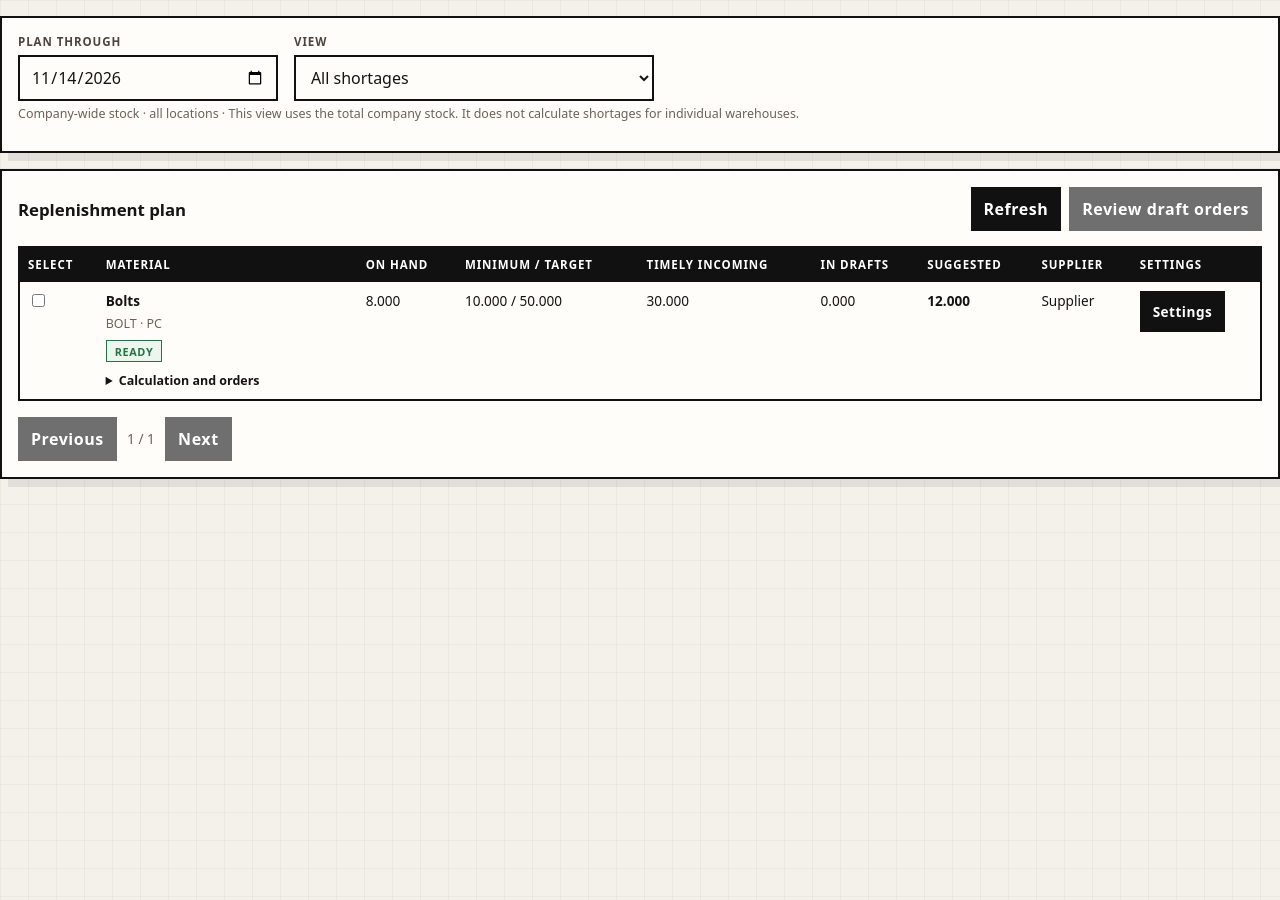
Test: replenishment screen › retains safe price and quantity edits when refreshed after conflict
Check: the text "Bolts" is shown, box [106,291,140,310]
Click the checkbox named "Select BOLT".
click(38, 301)  # box [32,294,45,307]
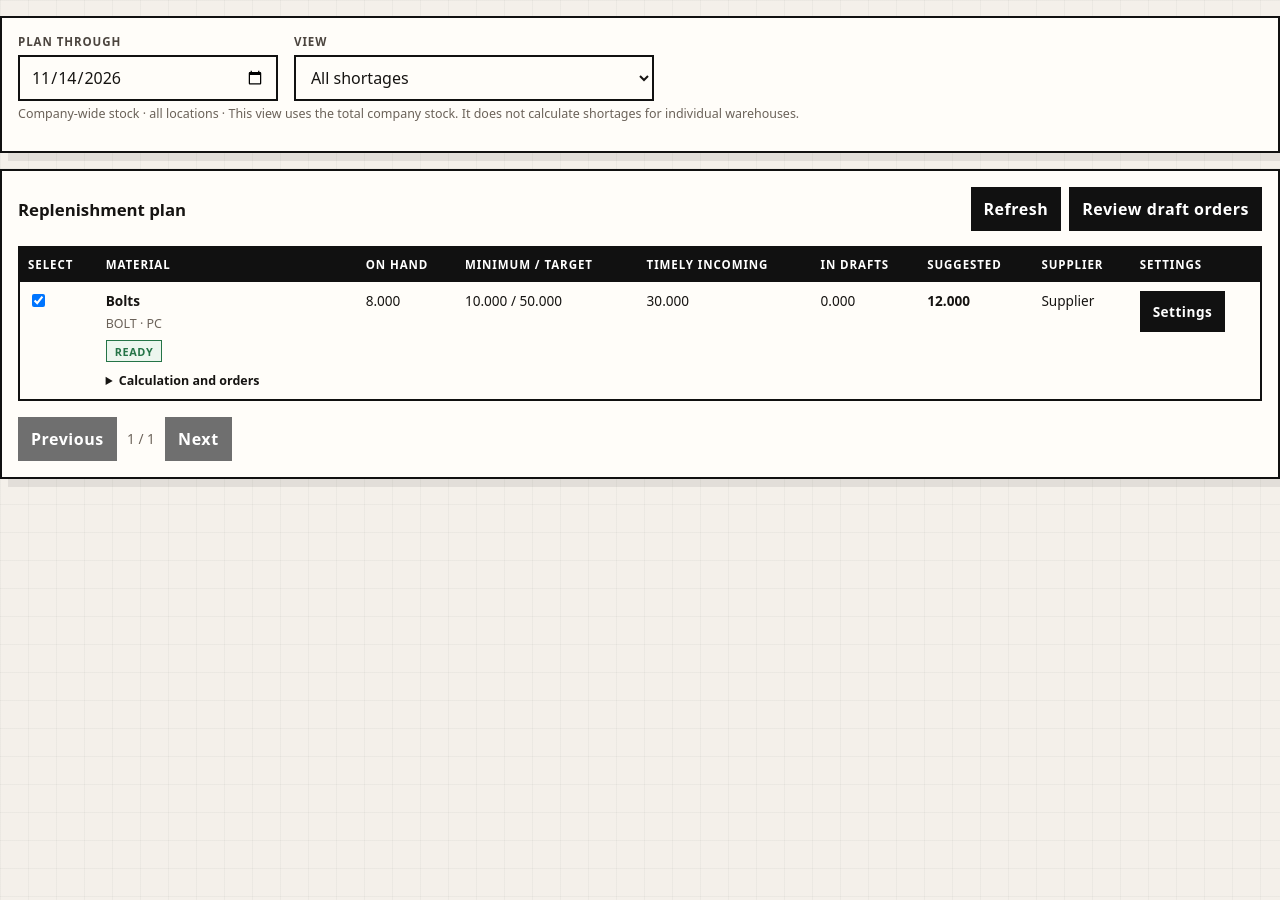
Click the button "Review draft orders".
click(1166, 209)  # box [1069,187,1262,231]
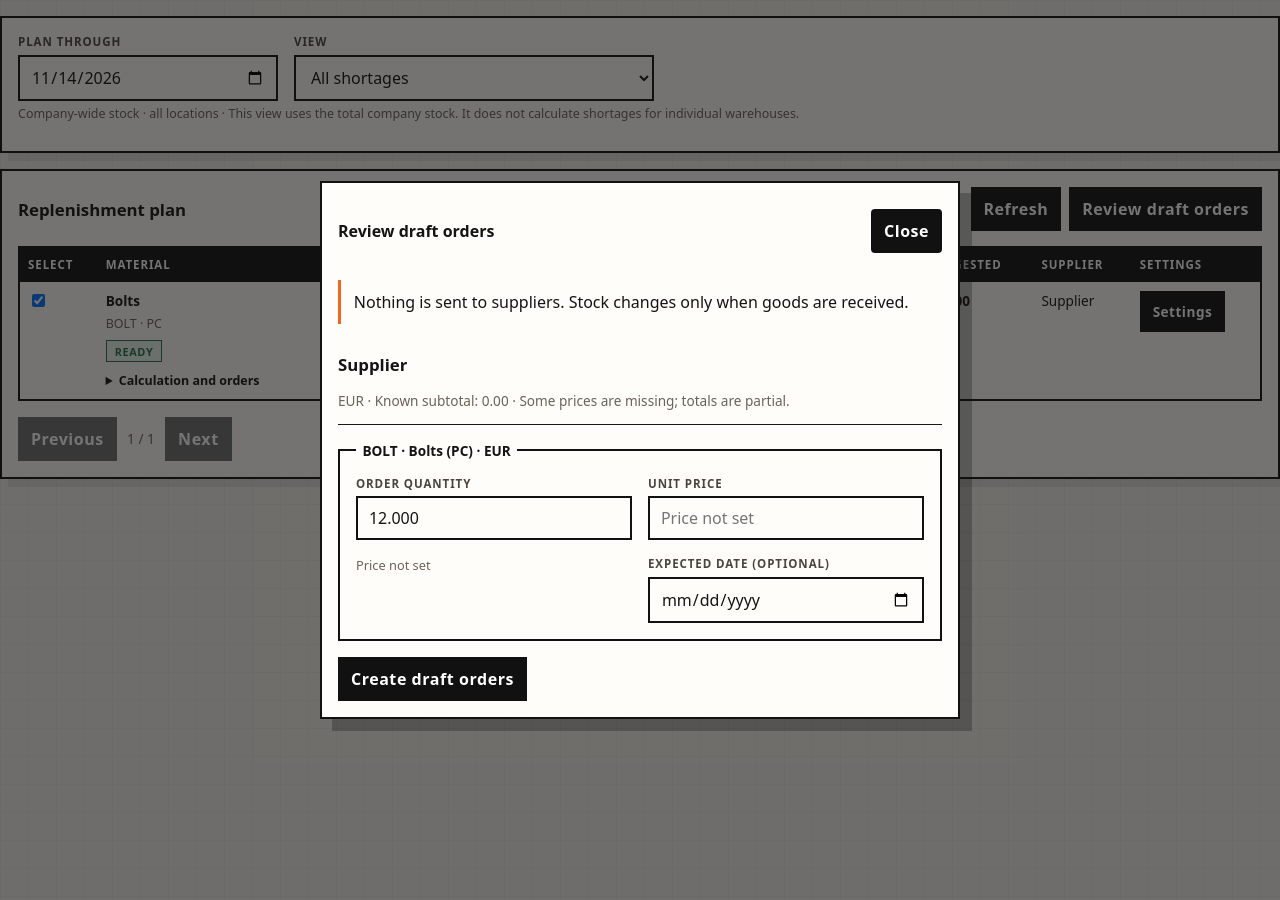
Replace the text in the number field named "Order quantity BOLT" with "5" at coordinates (494, 518), box [356,496,632,540]
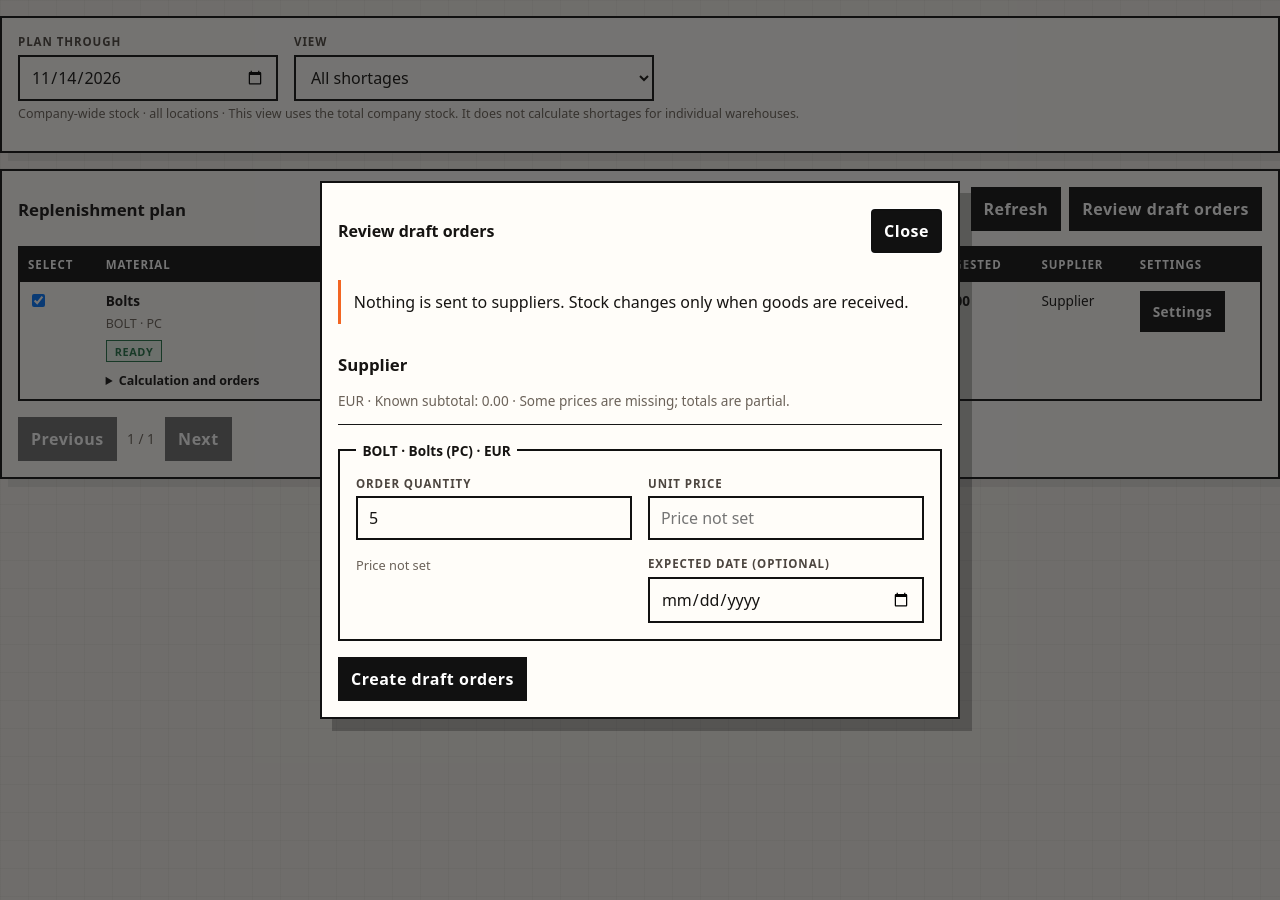
Type "2.50" into the number field named "Unit price BOLT".
click(786, 518); type("2.50")  # box [648,496,924,540]
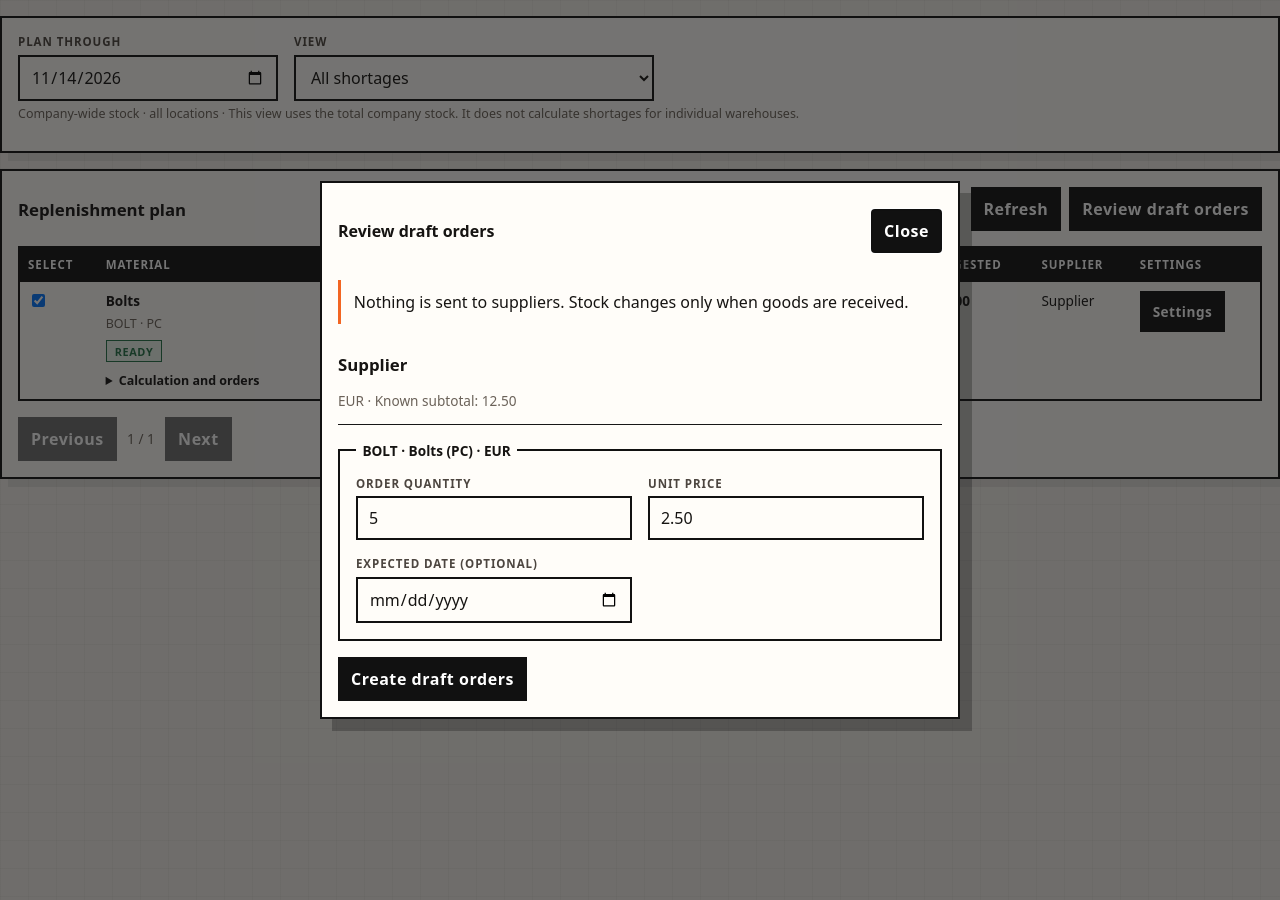
Click the button "Create draft orders".
click(432, 679)  # box [338,657,527,701]
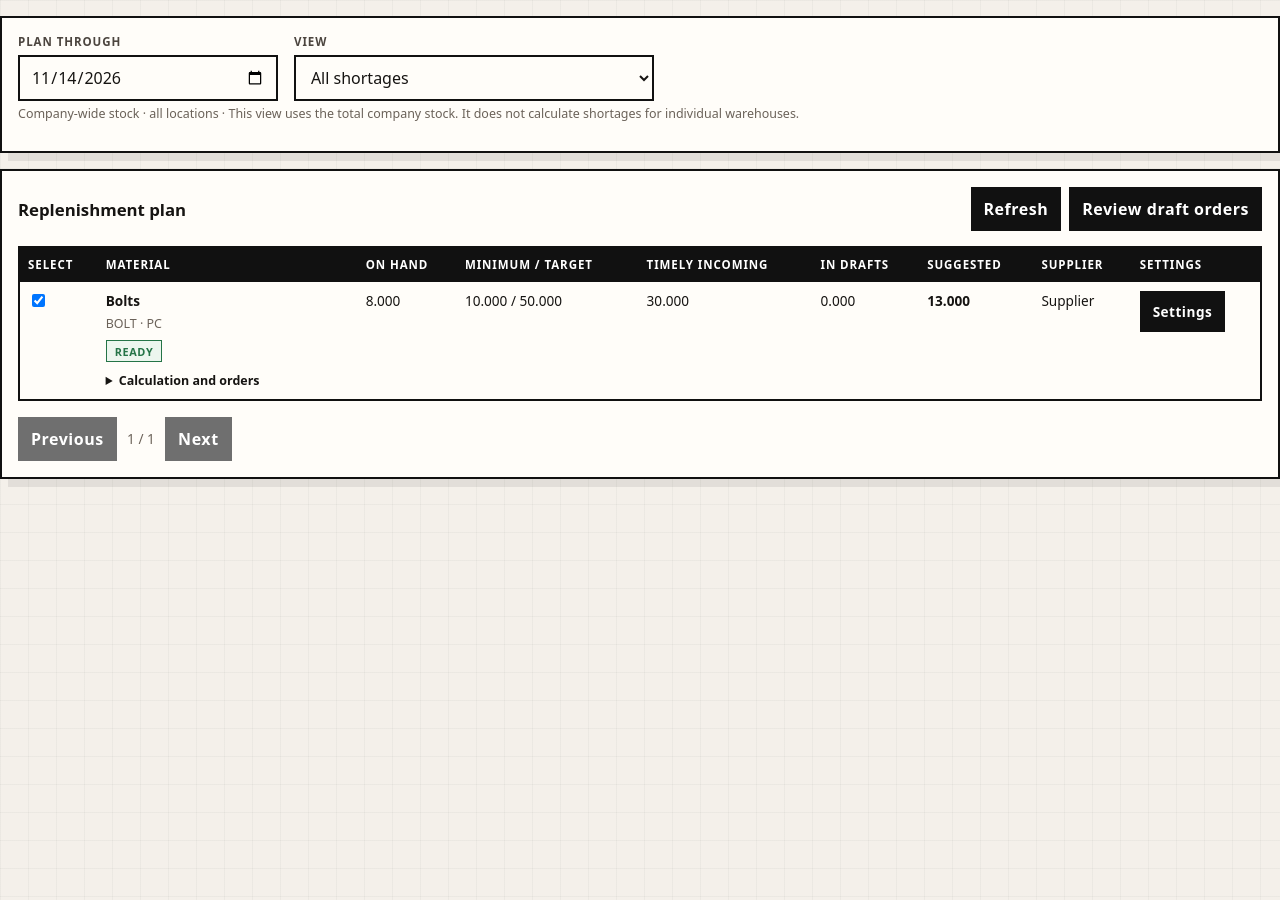
Check: the text "13.000" is shown, box [927,291,970,310]
Click the button "Review draft orders".
click(1166, 209)  # box [1069,187,1262,231]
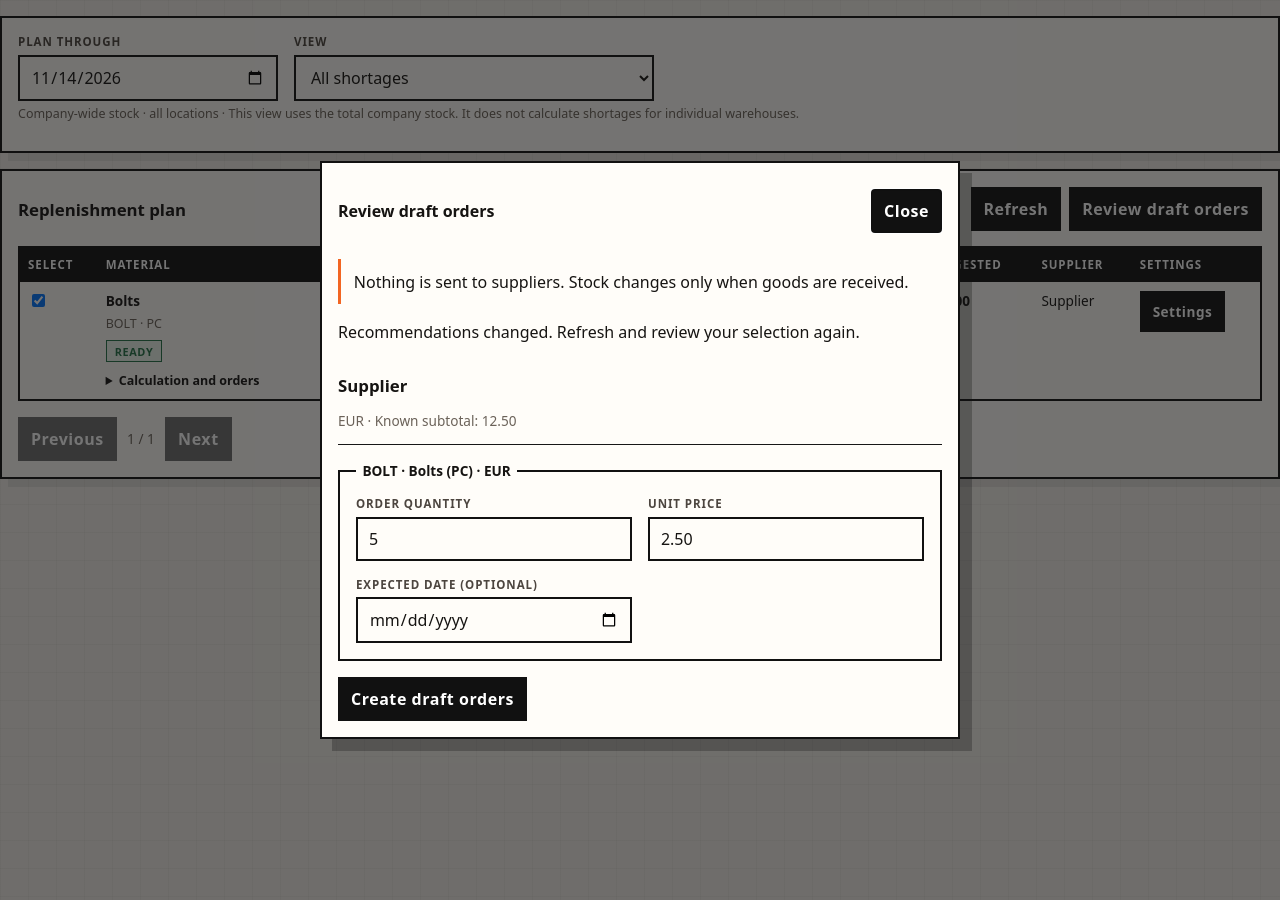
Check: the number field named "Order quantity BOLT" holds "5", box [356,517,632,561]
Check: the number field named "Unit price BOLT" holds "2.5", box [648,517,924,561]
